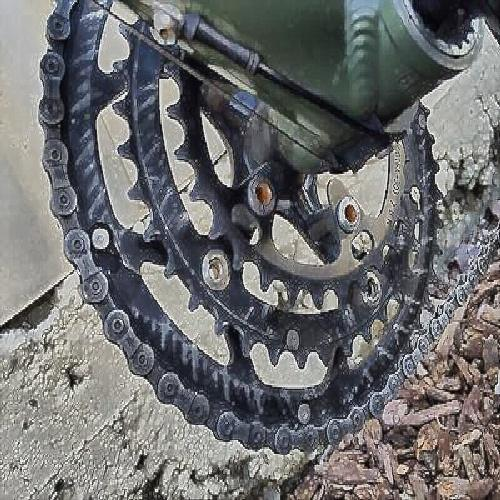bicycle: (46, 20, 470, 447)
